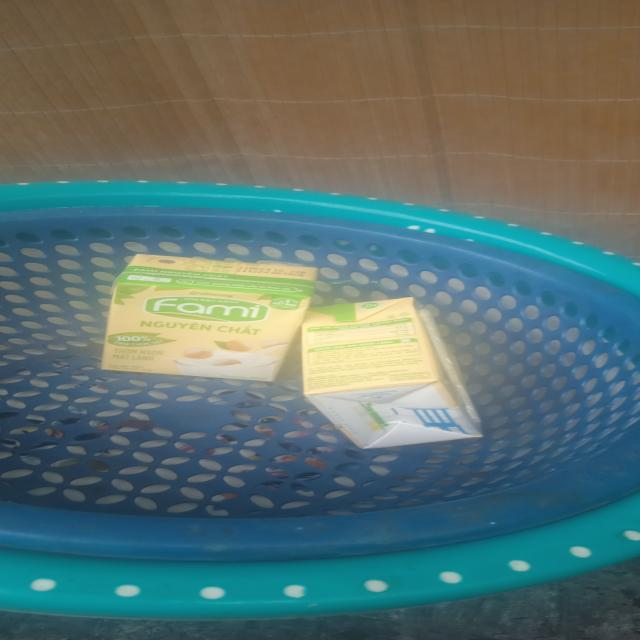Fami: (95, 253, 320, 381), (301, 299, 489, 449)
